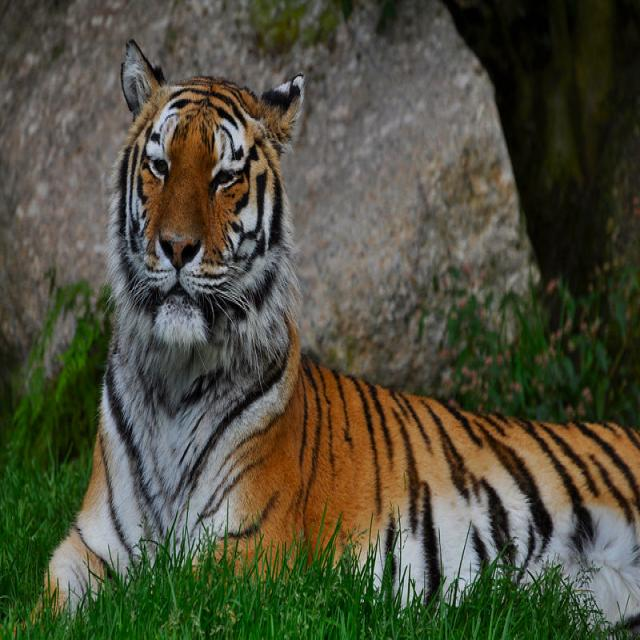Tiger: (63, 31, 533, 617)
